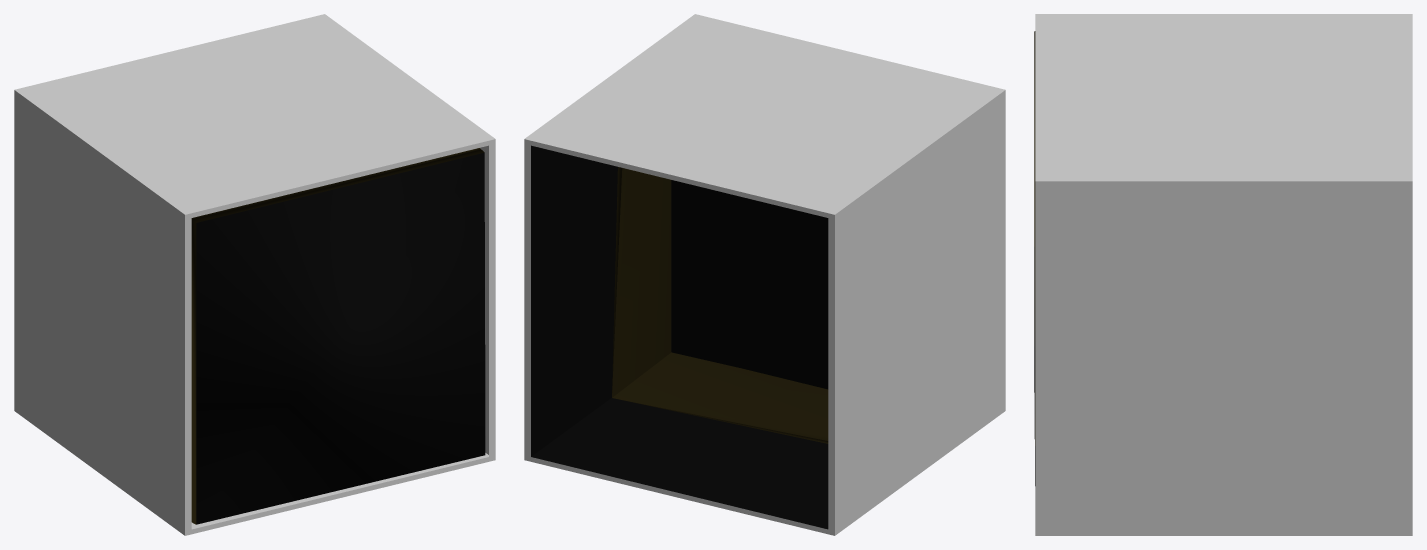
Rendered from frameAmericanWhite.glb.
3 views of the same model, side by side, from view 1: azimuth 30°, elevation 25°; view 2: azimuth 150°, elevation 25°; view 3: azimuth 270°, elevation 25° (orthographic). The views are drawn at different scales.
Parts seen in each view (by area): view 1: Material2, A_PaintingMesh, Material3.003; view 2: Material2, Material3.004, Mat, A_PaintingMesh; view 3: Material2, A_PaintingMesh.
Part boxes in pixels (left/top/right/bottom): Material2: left=14, top=14, right=495, bottom=535; A_PaintingMesh: left=191, top=148, right=485, bottom=524; Material3.003: left=191, top=145, right=488, bottom=529; Material2: left=524, top=14, right=1005, bottom=535; Material3.004: left=531, top=145, right=828, bottom=529; Mat: left=671, top=180, right=828, bottom=389; A_PaintingMesh: left=612, top=167, right=828, bottom=443; Material2: left=1035, top=14, right=1412, bottom=535; A_PaintingMesh: left=1034, top=31, right=1035, bottom=485.
Size of what is drawn, in the model's own units: 1.07 by 1.05 by 1.02.
6 materials, 1 textured.
